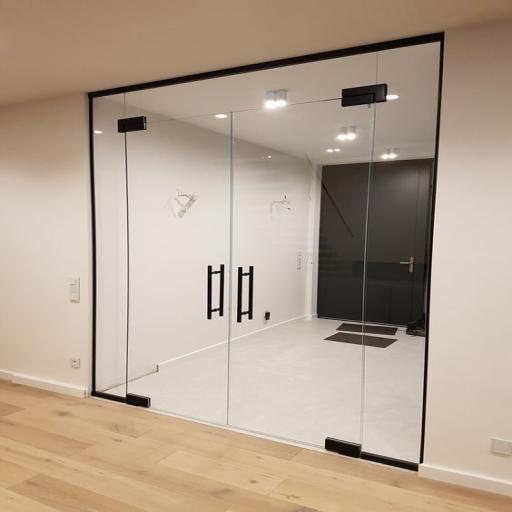corridor: (317, 159, 433, 325)
elevator: (91, 37, 442, 469)
